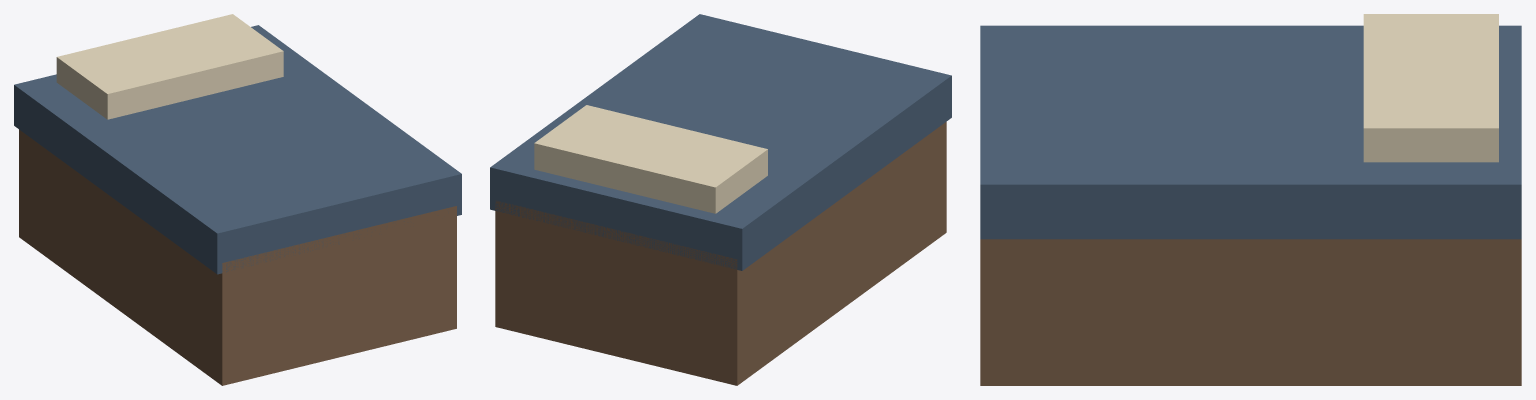
Rendered from bed.glb.
The picture shows the model from 3 angles, left to right: view 1: azimuth 30°, elevation 25°; view 2: azimuth 150°, elevation 25°; view 3: azimuth 270°, elevation 25°; orthographic projection. The views are drawn at different scales.
Visible parts, largest first — view 1: bed; view 2: bed; view 3: bed.
Boxes of the visible parts, left/top/right/bottom form: bed: left=14, top=14, right=461, bottom=385; bed: left=490, top=14, right=951, bottom=385; bed: left=980, top=14, right=1521, bottom=385.
Bounding box in the file's own units: 1.25 × 0.875 × 1.8.
